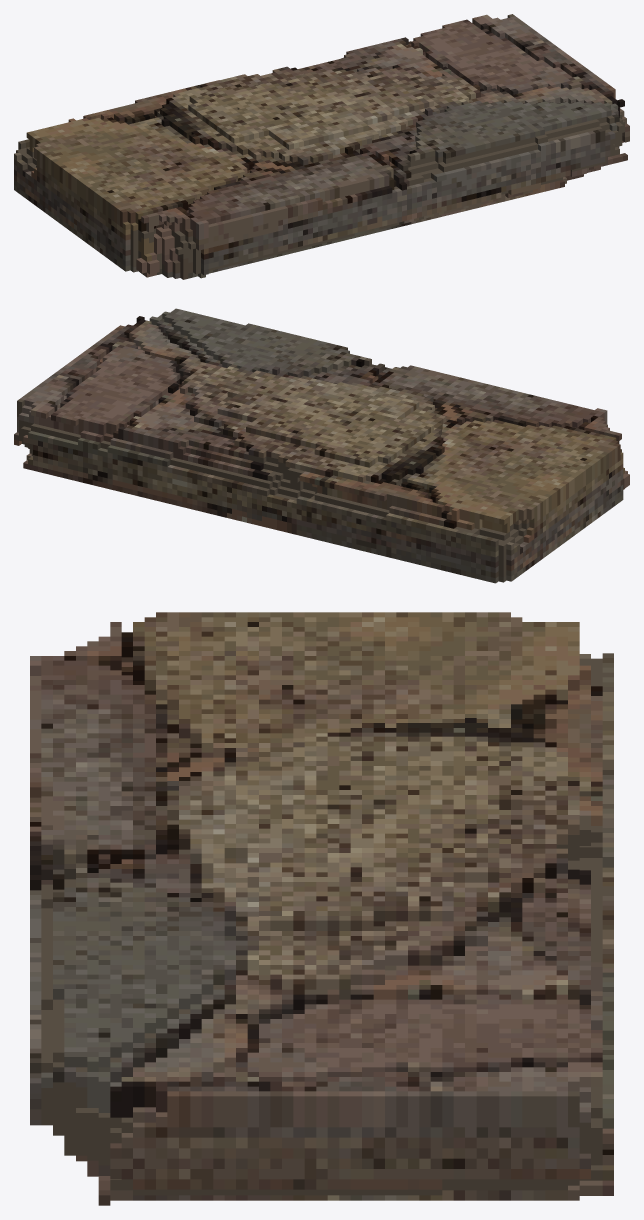
Rendered from mountain.obj.
3 renders of one model, top to bottom at view 1: azimuth 30°, elevation 25°; view 2: azimuth 150°, elevation 25°; view 3: azimuth 270°, elevation 25°, orthographic. The views are drawn at different scales.
Visible parts, largest first — view 1: Cube; view 2: Cube; view 3: Cube.
Part boxes in pixels (x1=…): Cube: x1=14, y1=14, x2=629, y2=279; Cube: x1=14, y1=308, x2=629, y2=583; Cube: x1=30, y1=612, x2=613, y2=1205.
Bounding box in the file's own units: 10 × 1.3 × 5.1.
Materials: 1 (1 with a texture image).
